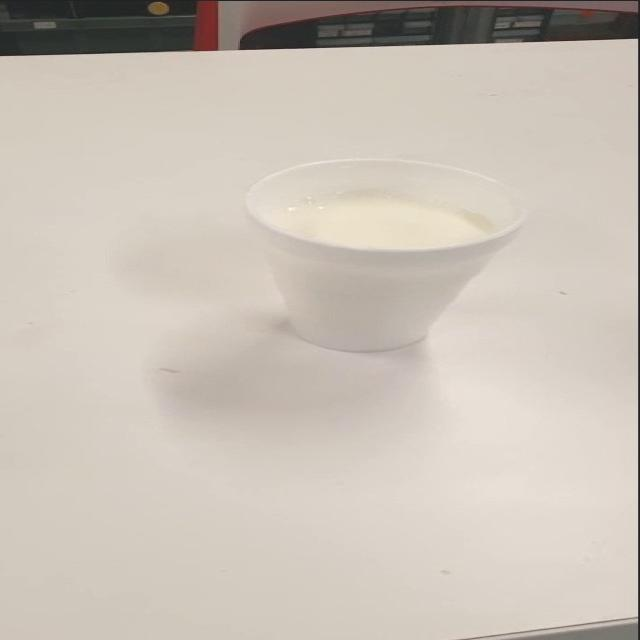milk: (207, 135, 530, 377)
